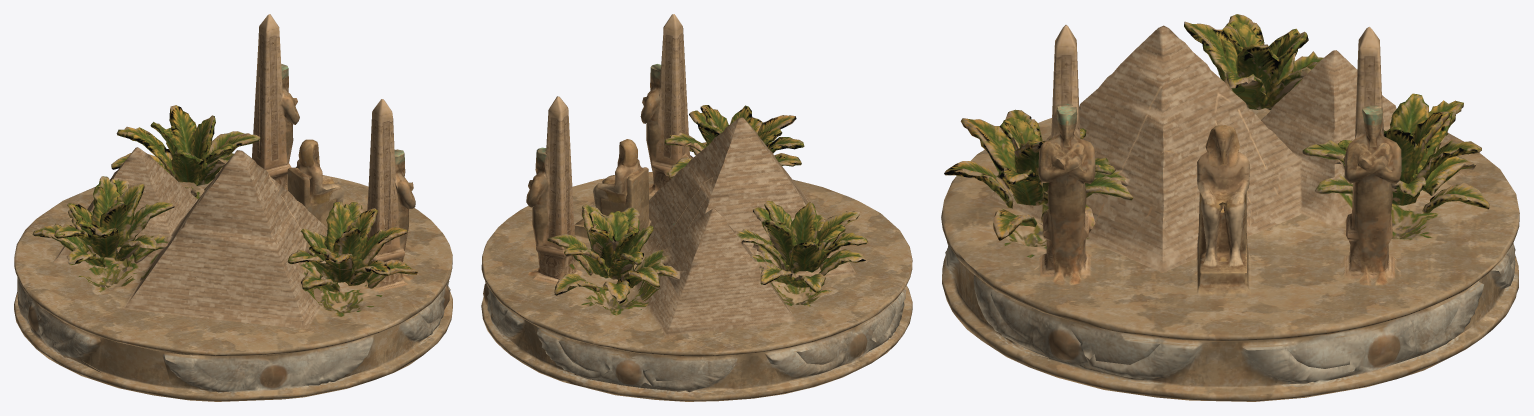
File: SM_PharaohLagacy_SnowGlobe.fbx
3 views of the same model, side by side, from view 1: azimuth 30°, elevation 25°; view 2: azimuth 150°, elevation 25°; view 3: azimuth 270°, elevation 25° (orthographic). The views are drawn at different scales.
Visible parts, largest first — view 1: SM_PharaohLagacy_SnowGlobe_LOD0; view 2: SM_PharaohLagacy_SnowGlobe_LOD0; view 3: SM_PharaohLagacy_SnowGlobe_LOD0.
Boxes of the visible parts, left/top/right/bottom form: SM_PharaohLagacy_SnowGlobe_LOD0: left=14, top=14, right=452, bottom=401; SM_PharaohLagacy_SnowGlobe_LOD0: left=481, top=14, right=912, bottom=401; SM_PharaohLagacy_SnowGlobe_LOD0: left=941, top=14, right=1519, bottom=401.
Bounding box in the file's own units: 33.71 × 33.71 × 20.04.
